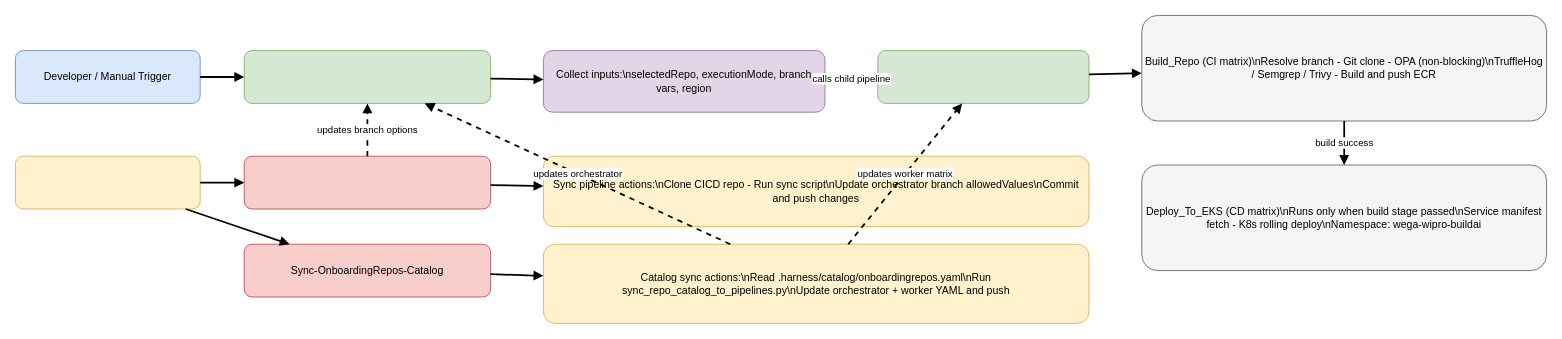
This 1562x339 diagram has some shape labels left out. Each missing label, with the box of its shape:
CiCD-BUILDAI-ORCHESTRATOR: (243, 50, 491, 103)
Hourly Scheduled Triggers: (15, 155, 200, 209)
RepoWorkerBuildDeploy: (877, 50, 1089, 103)
Sync-Orchestrator-Branch-Options: (243, 155, 491, 209)
